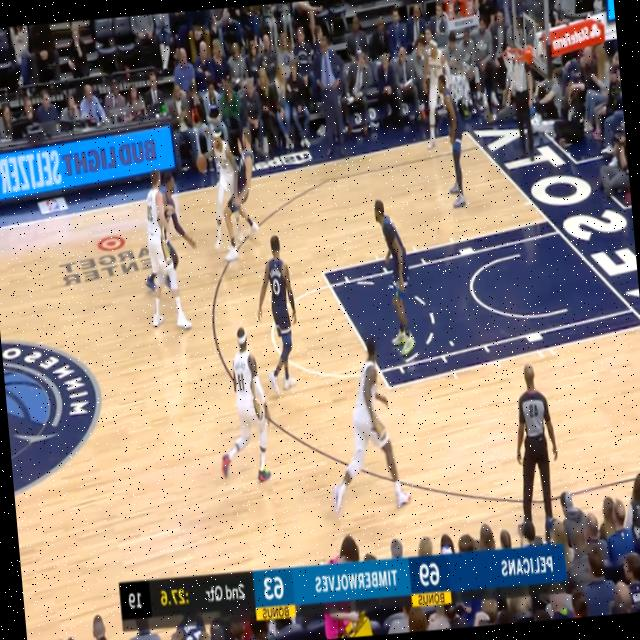Foul: (216, 133, 253, 201)
